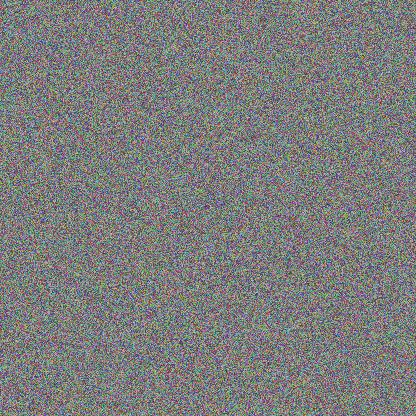empty: (99, 205, 210, 297)
occupied: (275, 170, 365, 260)
